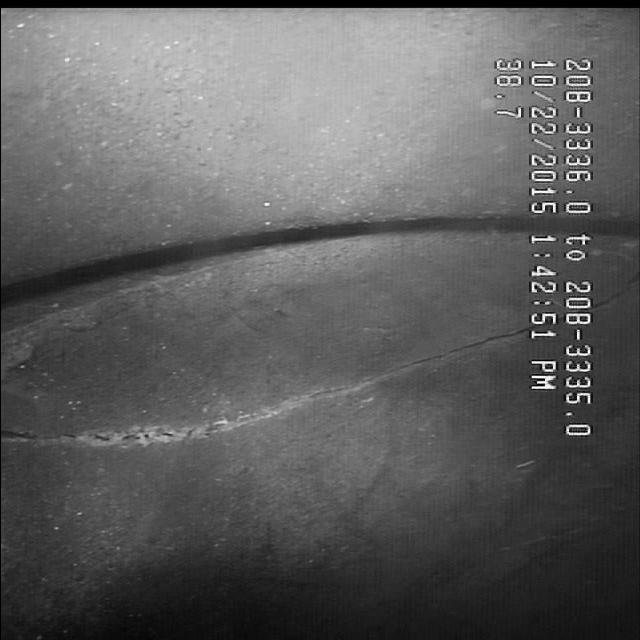Crack: (41, 334, 507, 466)
